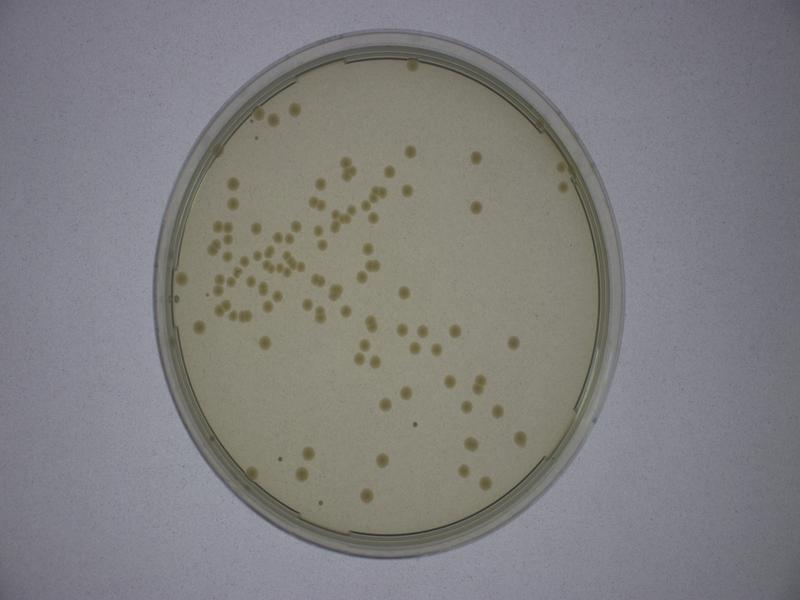colony: (368, 448, 396, 476), (356, 482, 378, 512), (396, 139, 422, 162), (281, 100, 308, 122), (369, 392, 394, 415), (310, 168, 332, 194), (462, 195, 489, 216), (502, 332, 525, 355), (510, 428, 533, 451), (437, 370, 460, 393), (475, 469, 497, 493), (486, 398, 508, 422), (451, 458, 474, 480), (297, 439, 318, 463), (185, 318, 209, 339), (250, 332, 273, 353), (391, 283, 413, 304), (290, 463, 313, 483), (396, 382, 415, 406), (444, 321, 465, 342), (459, 434, 482, 453), (379, 160, 398, 183), (466, 144, 484, 167), (366, 353, 386, 373), (217, 247, 237, 267), (222, 172, 243, 191), (391, 319, 410, 340), (285, 213, 304, 234), (403, 341, 425, 359), (357, 240, 379, 258), (413, 322, 433, 341), (456, 397, 477, 415), (297, 294, 315, 315), (398, 181, 417, 200), (364, 209, 383, 228), (313, 236, 331, 256), (225, 195, 242, 216), (255, 298, 276, 315), (352, 270, 372, 287), (338, 301, 354, 322), (246, 219, 265, 236), (429, 343, 448, 359)
